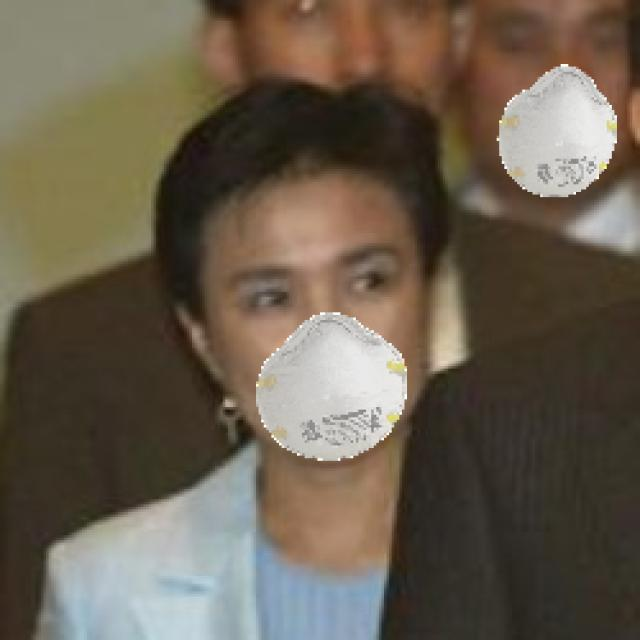mask: (235, 313, 421, 474), (483, 55, 637, 223)
